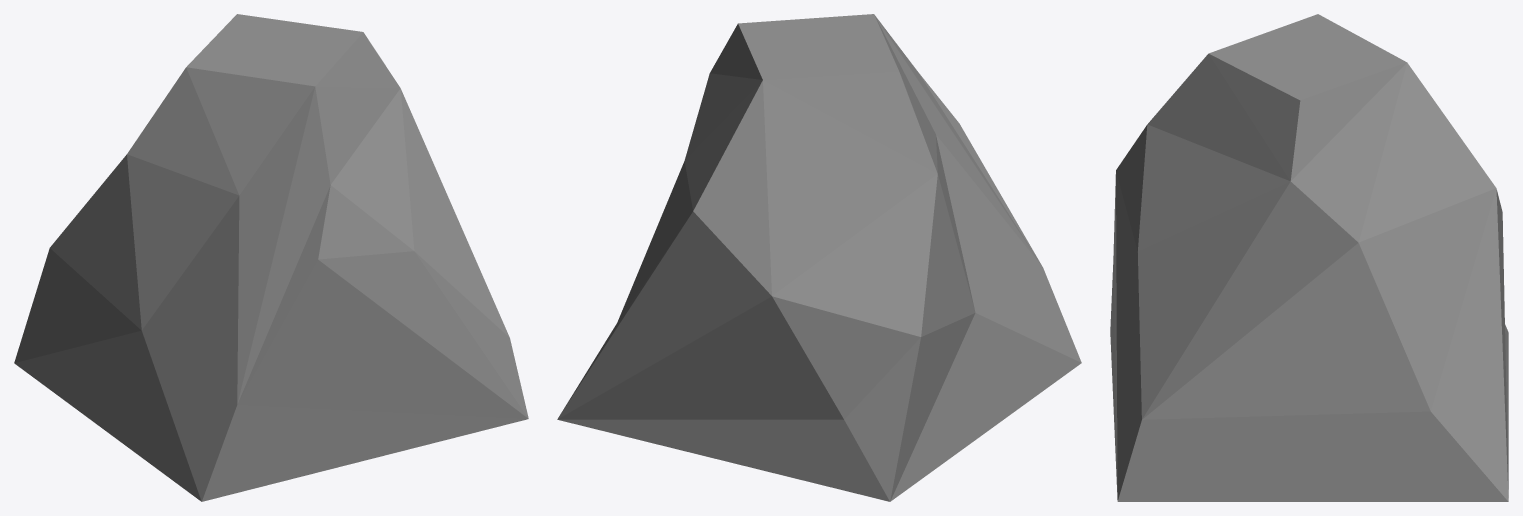
The model's file is SPW_Natures_Stone_07.glb.
3 views of the same model, side by side, from view 1: azimuth 30°, elevation 25°; view 2: azimuth 150°, elevation 25°; view 3: azimuth 270°, elevation 25° (orthographic). The views are drawn at different scales.
Visible parts, largest first — view 1: SPW_Natures_Stone_07; view 2: SPW_Natures_Stone_07; view 3: SPW_Natures_Stone_07.
Boxes of the visible parts, x1=… form: SPW_Natures_Stone_07: x1=14, y1=14, x2=528, y2=501; SPW_Natures_Stone_07: x1=557, y1=14, x2=1081, y2=501; SPW_Natures_Stone_07: x1=1110, y1=14, x2=1508, y2=501.
Bounding box in the file's own units: 2.11 × 2.07 × 2.07.
1 material, 1 textured.
